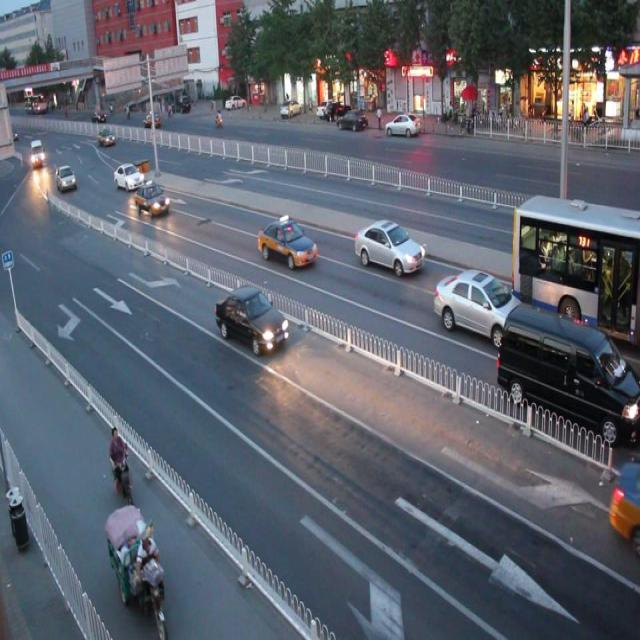car: (433, 266, 526, 346), (214, 282, 288, 356), (352, 217, 424, 278), (258, 215, 317, 270), (134, 182, 168, 215)
truck: (496, 300, 640, 446)
van: (510, 193, 640, 350)
